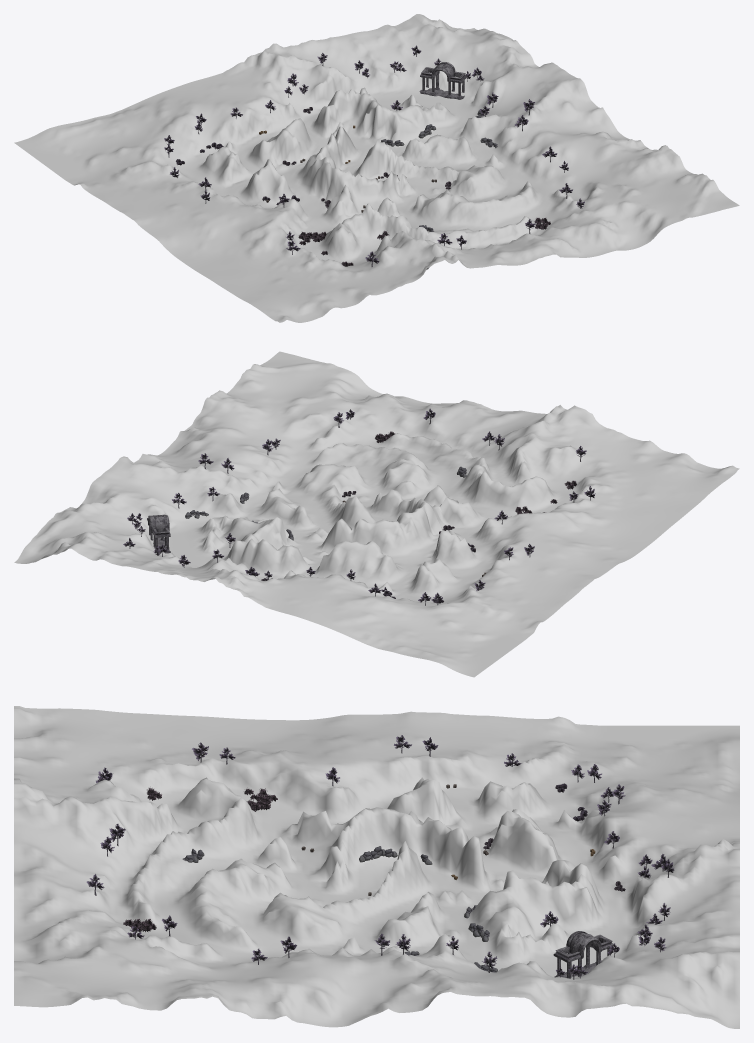
The model's file is MortMap.fbx.
3 views of the same model, one above another, from view 1: azimuth 30°, elevation 25°; view 2: azimuth 150°, elevation 25°; view 3: azimuth 270°, elevation 25° (orthographic). The views are drawn at different scales.
Visible parts, largest first — view 1: MortMesh, aaa; view 2: MortMesh, aaa; view 3: MortMesh, aaa.
Boxes of the visible parts, x1,y1,x2,y2 form: MortMesh: (14, 14, 739, 322); aaa: (419, 62, 466, 99); MortMesh: (14, 351, 739, 677); aaa: (147, 514, 170, 553); MortMesh: (14, 706, 739, 1028); aaa: (553, 931, 613, 978).
Bounding box in the file's own units: 25000 × 2243 × 25000.
